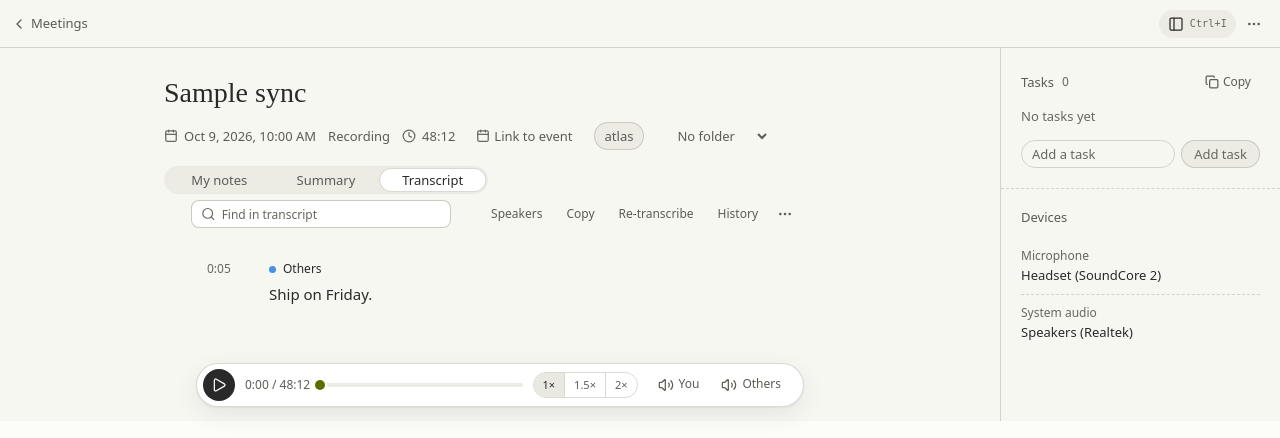
Test: keeps numbered Find results when transcript matches exist
This screenshot has width=1280, height=438.
In the search field labelled "Find in transcript": (331, 214) [222,202,441,226], type "i"
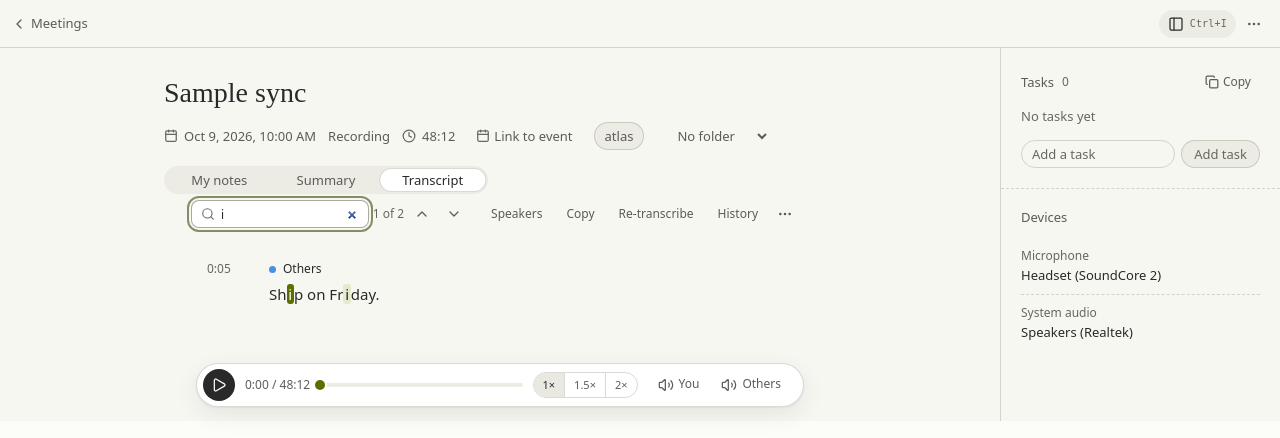
Click the button named "Next match": (454, 214) [440,200,468,228]
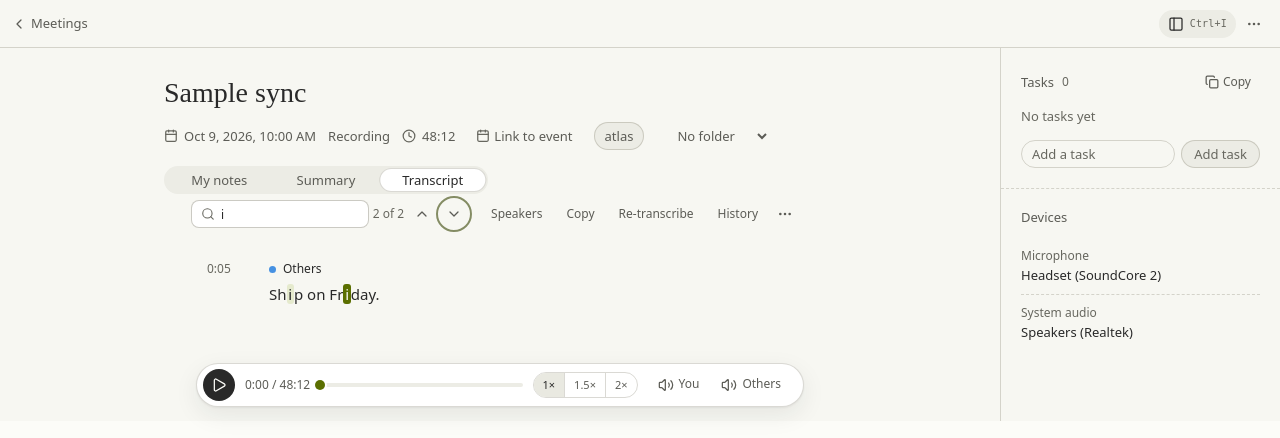
Check: the text "2 of 2" is shown, box [373,201,404,227]
